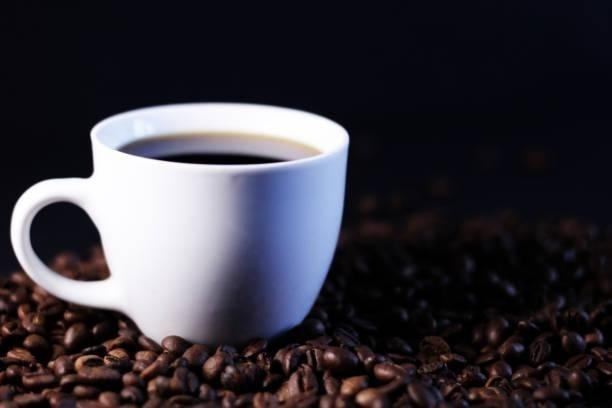cup-handle: (9, 100, 350, 356)
